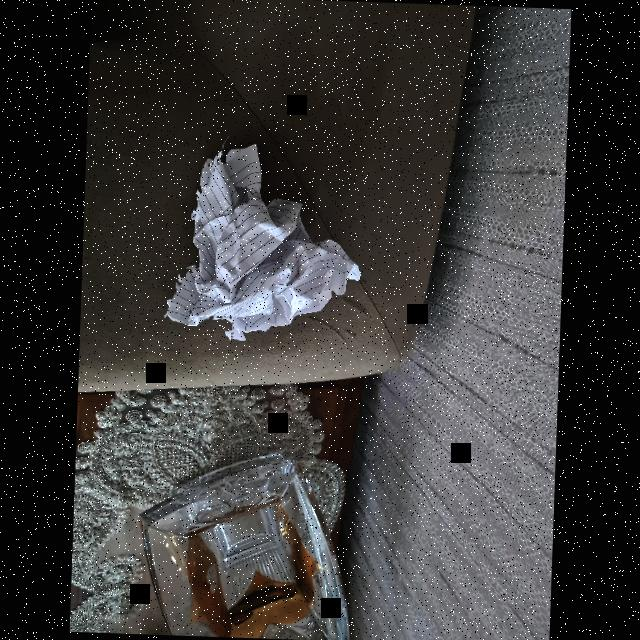scrap_paper: (157, 140, 364, 346)
